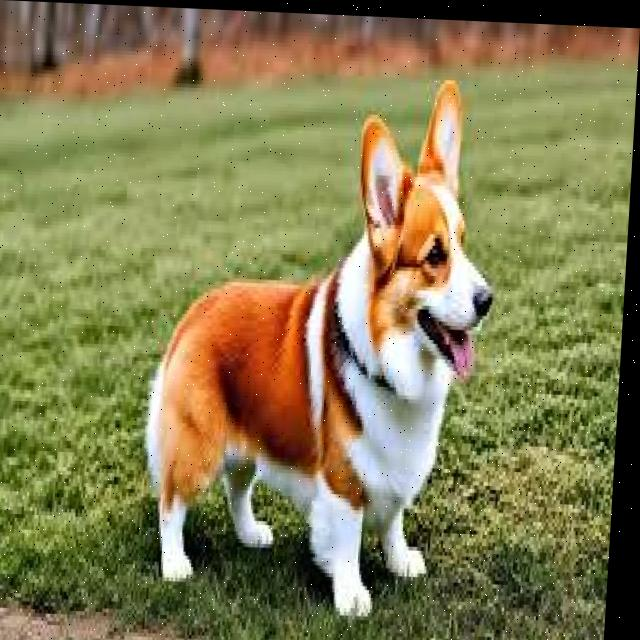CORGI: (121, 36, 488, 634)
